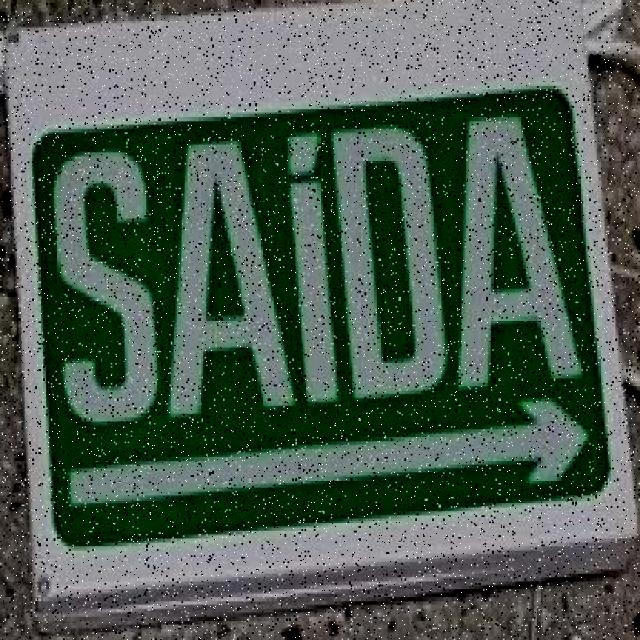emergency_exit: (4, 3, 637, 621)
